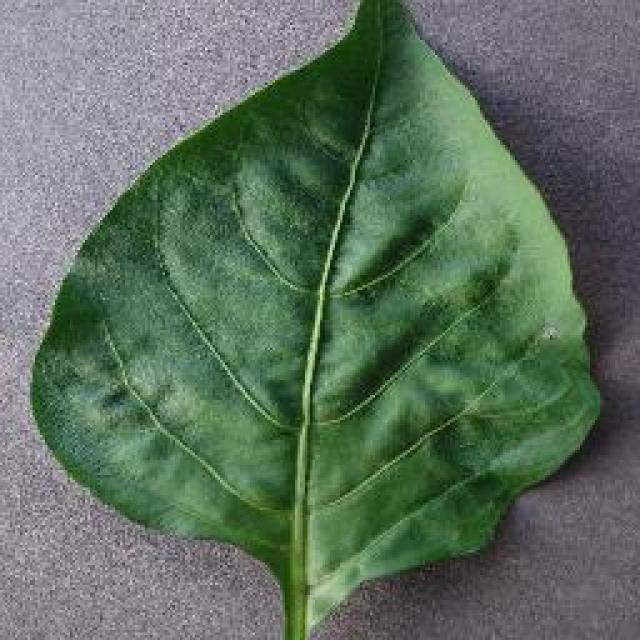Chilli_Healthy: (28, 0, 602, 638)
